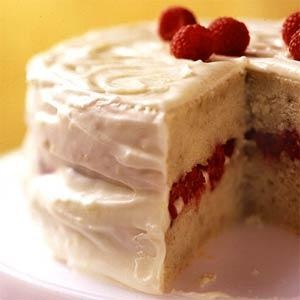background: (11, 3, 140, 138)
